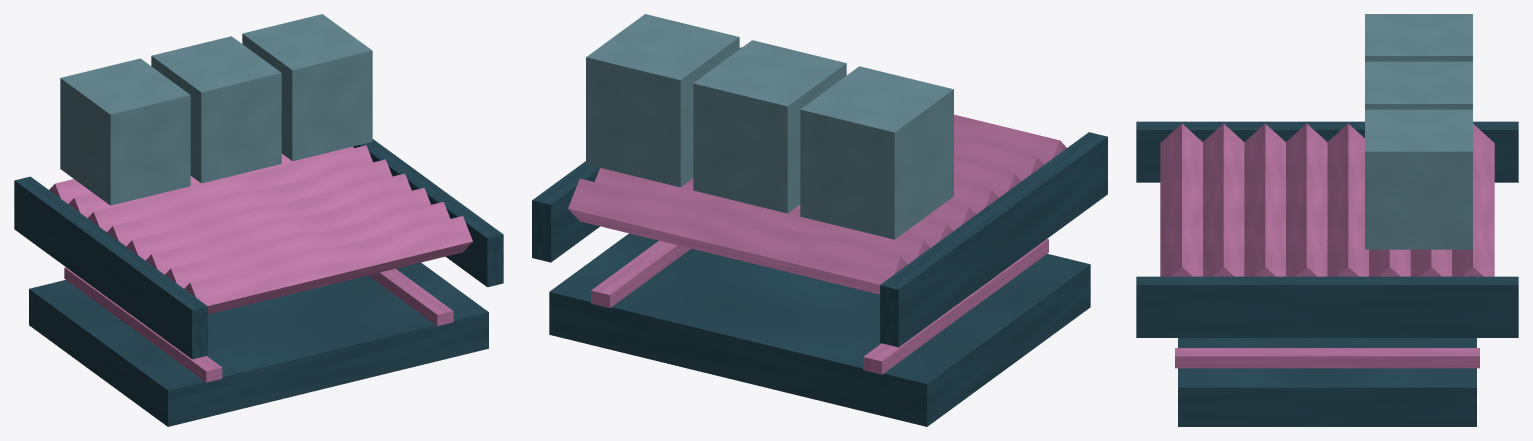
Rendered from atlas100-s063-a01.lod2.glb.
3 views of the same model, side by side, from view 1: azimuth 30°, elevation 25°; view 2: azimuth 150°, elevation 25°; view 3: azimuth 270°, elevation 25° (orthographic). The views are drawn at different scales.
Parts seen in each view (by area): view 1: atlas100-s063-a01:part-000, atlas100-s063-a01:part-013, atlas100-s063-a01:part-015, atlas100-s063-a01:part-017, atlas100-s063-a01:part-011, atlas100-s063-a01:part-010, atlas100-s063-a01:part-009, atlas100-s063-a01:part-006, atlas100-s063-a01:part-007, atlas100-s063-a01:part-008, atlas100-s063-a01:part-005, atlas100-s063-a01:part-012 (+4 smaller); view 2: atlas100-s063-a01:part-000, atlas100-s063-a01:part-013, atlas100-s063-a01:part-017, atlas100-s063-a01:part-015, atlas100-s063-a01:part-011, atlas100-s063-a01:part-003, atlas100-s063-a01:part-004, atlas100-s063-a01:part-012, atlas100-s063-a01:part-001, atlas100-s063-a01:part-002, atlas100-s063-a01:part-010, atlas100-s063-a01:part-009 (+4 smaller); view 3: atlas100-s063-a01:part-012, atlas100-s063-a01:part-000, atlas100-s063-a01:part-017, atlas100-s063-a01:part-002, atlas100-s063-a01:part-010, atlas100-s063-a01:part-007, atlas100-s063-a01:part-008, atlas100-s063-a01:part-009, atlas100-s063-a01:part-011, atlas100-s063-a01:part-006, atlas100-s063-a01:part-015, atlas100-s063-a01:part-013 (+3 smaller).
Boxes of the visible parts, left/top/right/bottom form: atlas100-s063-a01:part-000: left=29, top=262, right=488, bottom=426; atlas100-s063-a01:part-013: left=60, top=58, right=190, bottom=205; atlas100-s063-a01:part-015: left=151, top=36, right=281, bottom=183; atlas100-s063-a01:part-017: left=242, top=14, right=372, bottom=161; atlas100-s063-a01:part-011: left=14, top=176, right=207, bottom=359; atlas100-s063-a01:part-010: left=184, top=216, right=472, bottom=314; atlas100-s063-a01:part-009: left=165, top=202, right=450, bottom=288; atlas100-s063-a01:part-006: left=107, top=159, right=392, bottom=246; atlas100-s063-a01:part-007: left=126, top=173, right=411, bottom=260; atlas100-s063-a01:part-008: left=145, top=188, right=430, bottom=274; atlas100-s063-a01:part-005: left=88, top=145, right=372, bottom=231; atlas100-s063-a01:part-012: left=353, top=139, right=503, bottom=287; atlas100-s063-a01:part-000: left=549, top=233, right=1090, bottom=426; atlas100-s063-a01:part-013: left=800, top=66, right=953, bottom=239; atlas100-s063-a01:part-017: left=586, top=14, right=739, bottom=187; atlas100-s063-a01:part-015: left=693, top=40, right=846, bottom=213; atlas100-s063-a01:part-011: left=880, top=132, right=1107, bottom=347; atlas100-s063-a01:part-003: left=568, top=178, right=907, bottom=294; atlas100-s063-a01:part-004: left=594, top=168, right=930, bottom=264; atlas100-s063-a01:part-012: left=532, top=47, right=741, bottom=262; atlas100-s063-a01:part-001: left=863, top=239, right=1048, bottom=374; atlas100-s063-a01:part-002: left=591, top=240, right=690, bottom=308; atlas100-s063-a01:part-010: left=954, top=114, right=1066, bottom=164; atlas100-s063-a01:part-009: left=954, top=136, right=1044, bottom=180; atlas100-s063-a01:part-012: left=1136, top=276, right=1518, bottom=337; atlas100-s063-a01:part-000: left=1178, top=338, right=1476, bottom=426; atlas100-s063-a01:part-017: left=1365, top=109, right=1472, bottom=249; atlas100-s063-a01:part-002: left=1175, top=348, right=1479, bottom=368; atlas100-s063-a01:part-010: left=1160, top=123, right=1202, bottom=276; atlas100-s063-a01:part-007: left=1286, top=123, right=1327, bottom=276; atlas100-s063-a01:part-008: left=1244, top=123, right=1285, bottom=276; atlas100-s063-a01:part-009: left=1203, top=123, right=1244, bottom=276; atlas100-s063-a01:part-011: left=1136, top=121, right=1518, bottom=182; atlas100-s063-a01:part-006: left=1327, top=123, right=1368, bottom=276; atlas100-s063-a01:part-015: left=1365, top=61, right=1472, bottom=109; atlas100-s063-a01:part-013: left=1365, top=14, right=1472, bottom=61.
Bounding box in the file's own units: 2.4 × 1.73 × 2.3.
3 materials, 3 textured.
